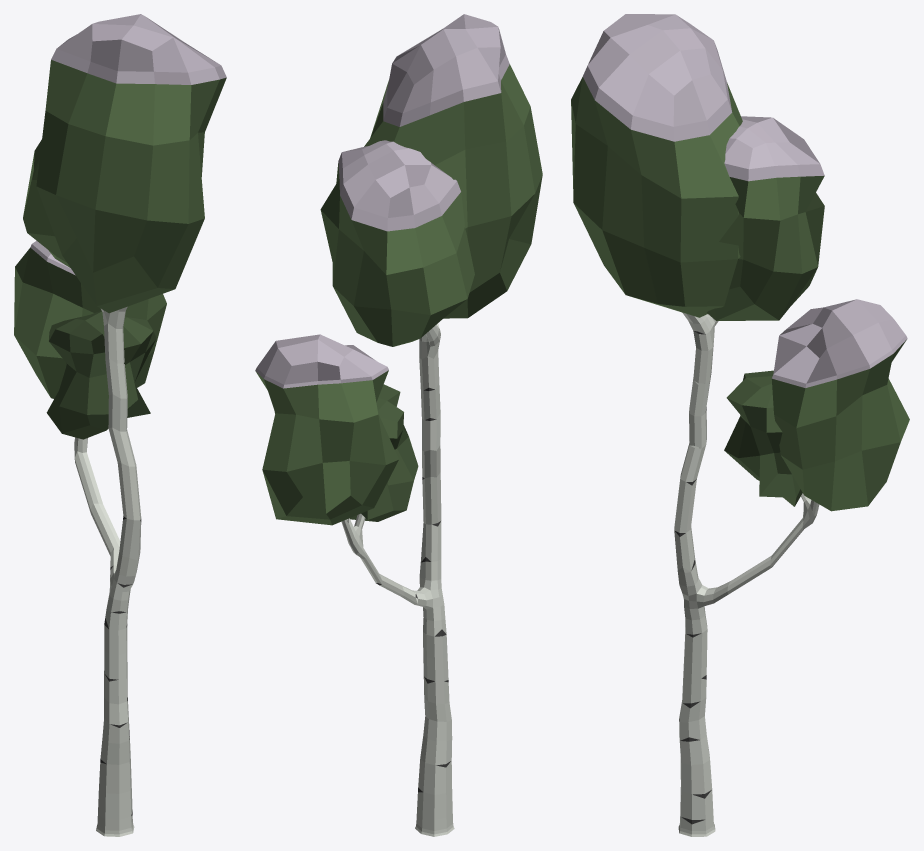
Rendered from birchtree_snow_5.glb.
The picture shows the model from 3 angles, left to right: view 1: azimuth 30°, elevation 25°; view 2: azimuth 150°, elevation 25°; view 3: azimuth 270°, elevation 25°; orthographic projection. The views are drawn at different scales.
Parts seen in each view (by area): view 1: BirchTree_Snow_5; view 2: BirchTree_Snow_5; view 3: BirchTree_Snow_5.
Boxes of the visible parts, x1,y1,x2,y2 form: BirchTree_Snow_5: (14,14,226,836); BirchTree_Snow_5: (255,14,542,836); BirchTree_Snow_5: (571,14,909,836).
Bounding box in the file's own units: 2.85 × 12.15 × 4.64.
